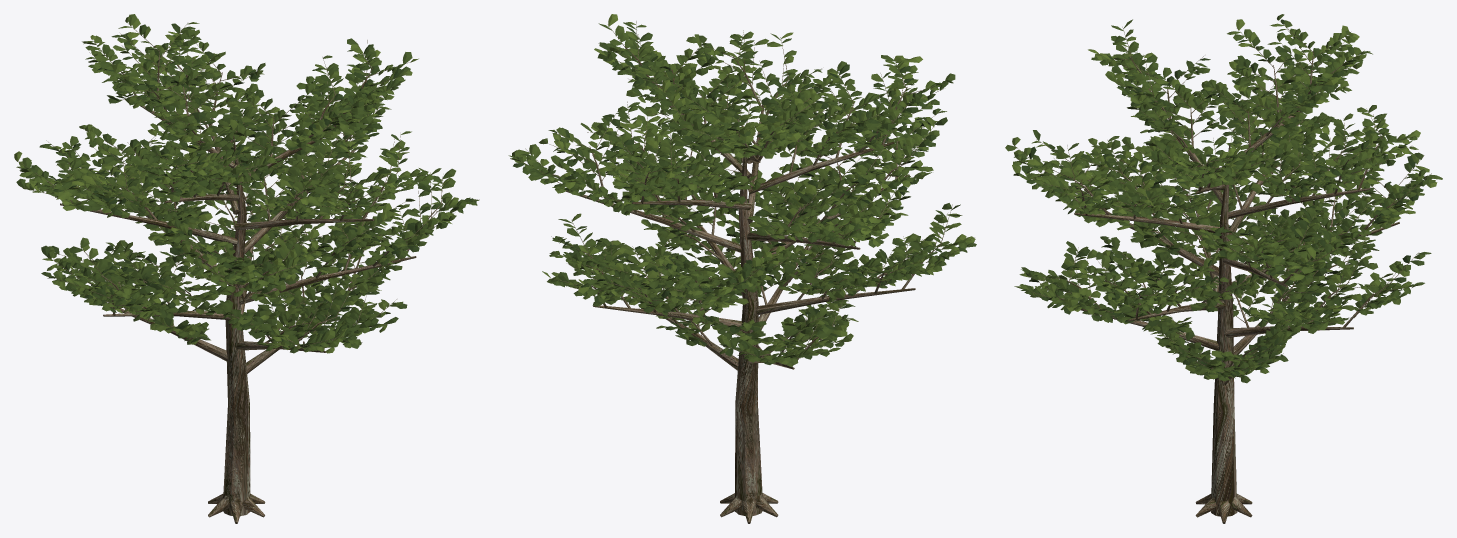
Rendered from oak0.glb.
3 renders of one model, left to right at view 1: azimuth 30°, elevation 25°; view 2: azimuth 150°, elevation 25°; view 3: azimuth 270°, elevation 25°, orthographic. The views are drawn at different scales.
Parts seen in each view (by area): view 1: Tree; view 2: Tree; view 3: Tree.
Boxes of the visible parts, x1,y1,x2,y2 form: Tree: [14, 14, 479, 523]; Tree: [508, 14, 976, 523]; Tree: [1005, 14, 1442, 523].
Size of the model in its own units: 7.67 by 8.56 by 7.6.
Materials: 1 (1 with a texture image).
